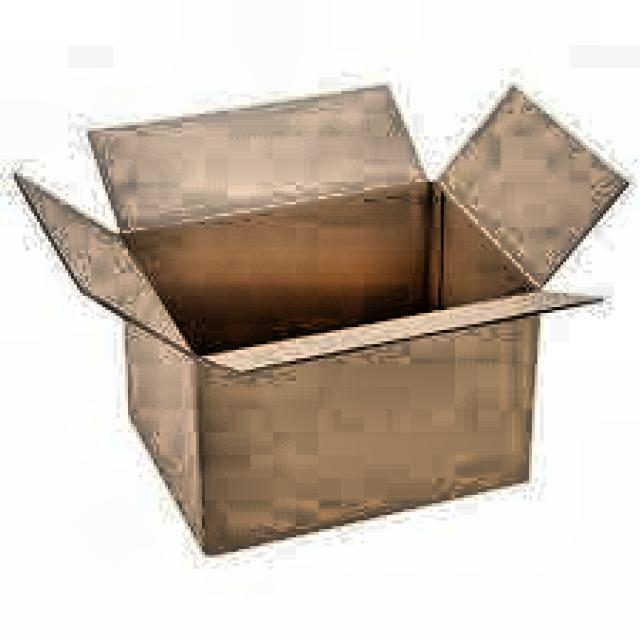Cardbox: (3, 77, 640, 563)
